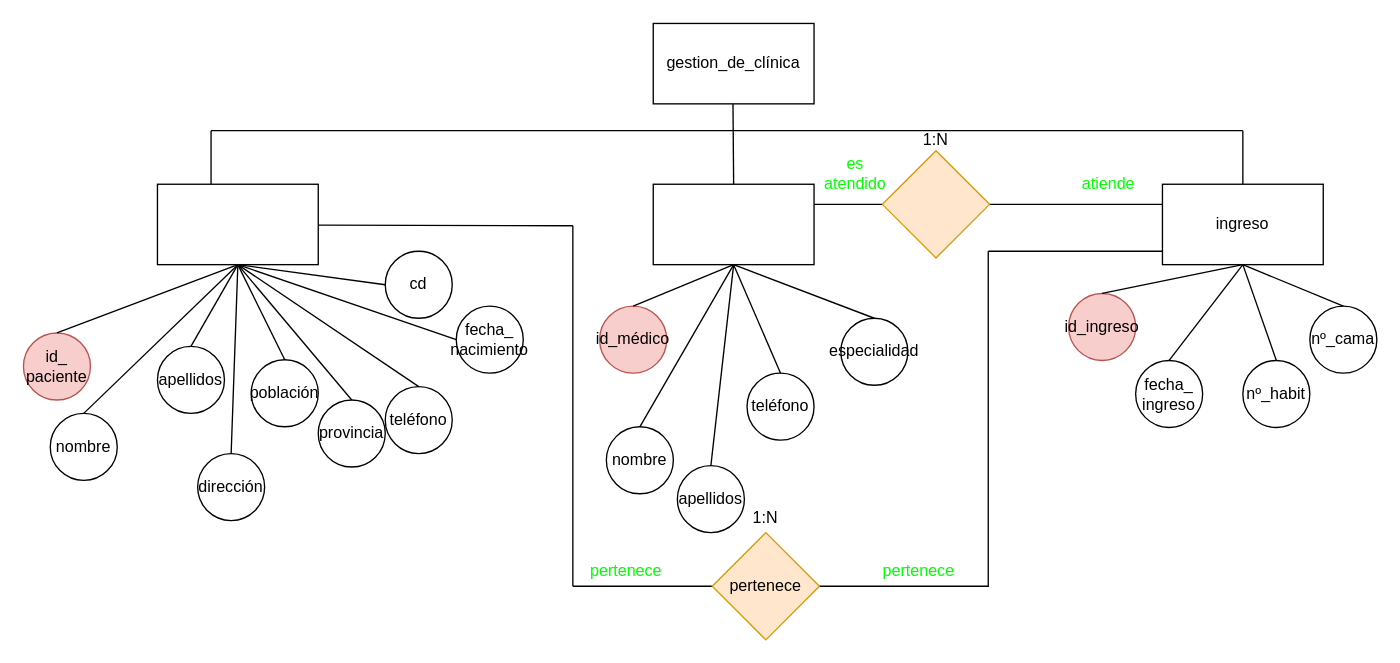
Some shapes in this 1400 by 663 pixel diagram are drawn without their labels. Each missing label, with the centre of its shape:
atender: point (935, 203)
médico: point (733, 224)
paciente: point (237, 224)
